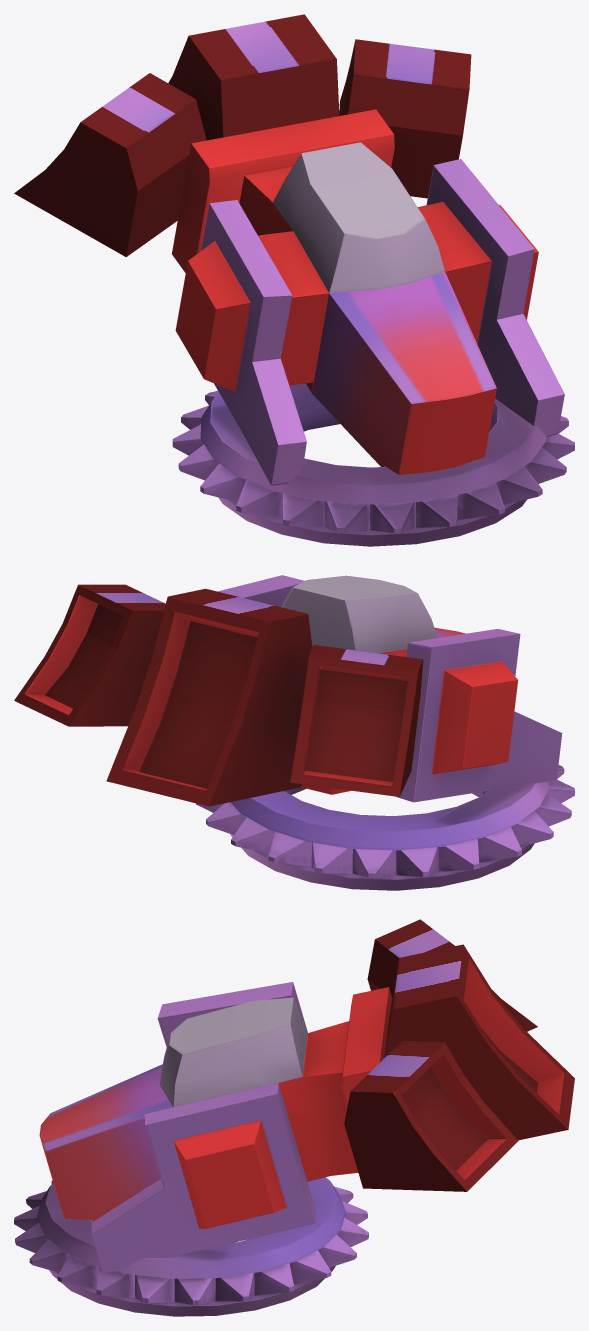
3 views of the same model, one above another, from view 1: azimuth 30°, elevation 25°; view 2: azimuth 150°, elevation 25°; view 3: azimuth 270°, elevation 25° (orthographic). The views are drawn at different scales.
Parts seen in each view (by area): view 1: Shank Body, Shank Gear; view 2: Shank Body, Shank Gear; view 3: Shank Body, Shank Gear.
Boxes of the visible parts, x1,y1,x2,y2 form: Shank Body: (14,14,564,485); Shank Gear: (172,383,574,546); Shank Body: (14,575,562,806); Shank Gear: (195,765,574,890); Shank Body: (39,919,574,1273); Shank Gear: (14,1177,368,1316).
Bounding box in the file's own units: 45.46 × 34.44 × 58.59.
Materials: 1 (1 with a texture image).
